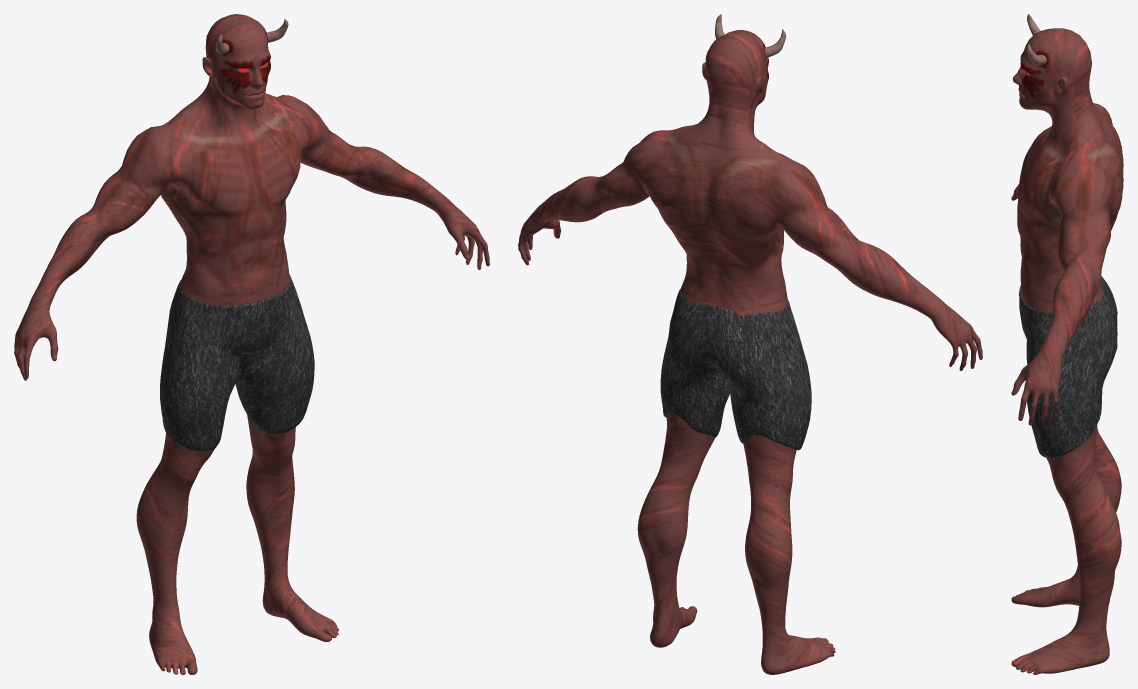
Rendered from Demon1.fbx.
The picture shows the model from 3 angles, left to right: view 1: azimuth 30°, elevation 25°; view 2: azimuth 150°, elevation 25°; view 3: azimuth 270°, elevation 25°; orthographic projection. The views are drawn at different scales.
Visible parts, largest first — view 1: Body, Cloth; view 2: Body, Cloth; view 3: Body, Cloth, Horns.
Part boxes in pixels (x1,y1,x2,y2): Body: (14, 14, 489, 674); Cloth: (160, 275, 314, 451); Body: (518, 30, 982, 674); Cloth: (660, 289, 811, 450); Body: (1011, 28, 1123, 674); Cloth: (1019, 277, 1117, 457); Horns: (1027, 14, 1046, 64).
Bounding box in the file's own units: 219 × 283 × 47.31.
